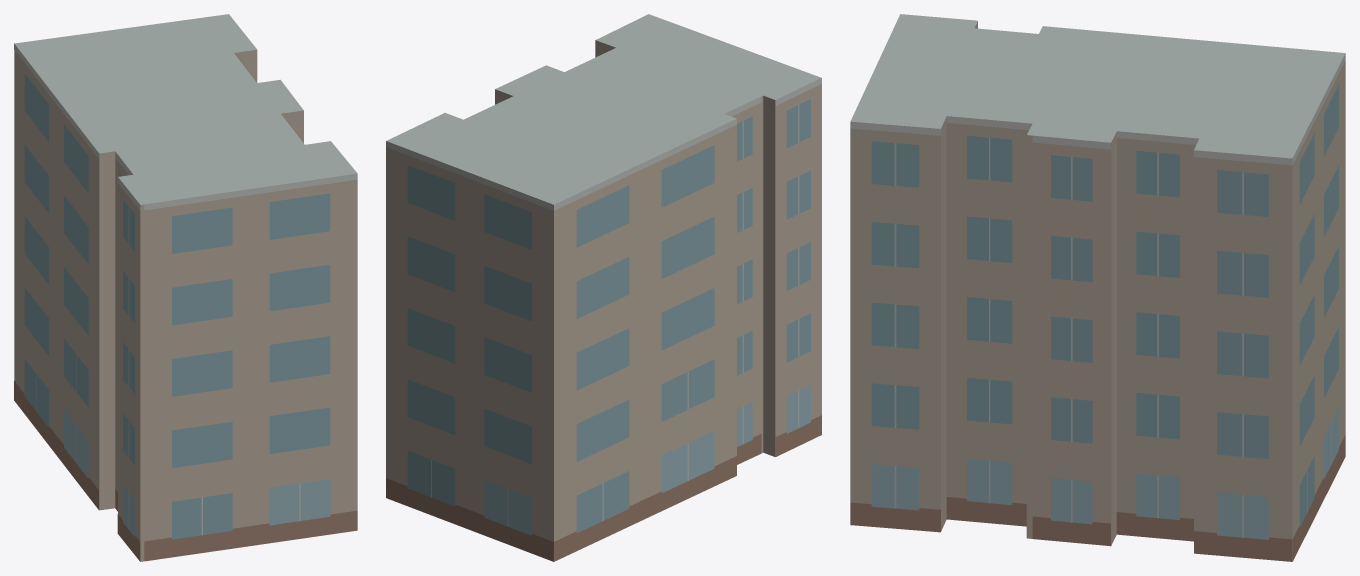
File: survey-upis-33005915.glb
3 views of the same model, side by side, from view 1: azimuth 30°, elevation 25°; view 2: azimuth 150°, elevation 25°; view 3: azimuth 270°, elevation 25° (orthographic). The views are drawn at different scales.
Visible parts, largest first — view 1: survey-upis-33005915.tmp; view 2: survey-upis-33005915.tmp; view 3: survey-upis-33005915.tmp.
Boxes of the visible parts, box(x1,y1,x2,y2) form: survey-upis-33005915.tmp: box(14, 14, 357, 561); survey-upis-33005915.tmp: box(386, 14, 821, 561); survey-upis-33005915.tmp: box(850, 14, 1345, 561).
Size of the model in its own units: 11.07 by 14.4 by 16.04.
